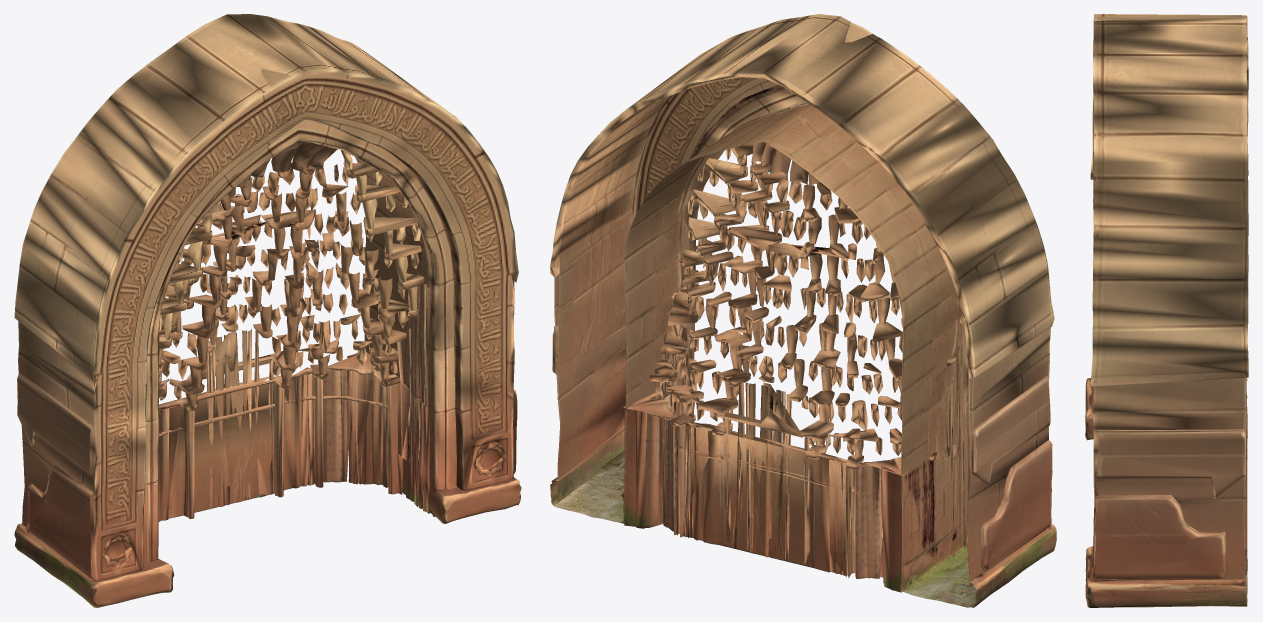
Rendered from Meshy_AI_Inscribed_Muqarnas_Ar_0721143411_texture.fbx.
3 views of the same model, side by side, from view 1: azimuth 30°, elevation 25°; view 2: azimuth 150°, elevation 25°; view 3: azimuth 270°, elevation 25° (orthographic).
Parts seen in each view (by area): view 1: mesh_node; view 2: mesh_node; view 3: mesh_node.
Part boxes in pixels (x1,y1,x2,y2): mesh_node: (14, 14, 521, 607); mesh_node: (550, 14, 1056, 607); mesh_node: (1085, 14, 1248, 607).
Bounding box in the file's own units: 92.19 × 99.8 × 30.57.
Materials: 1 (1 with a texture image).
